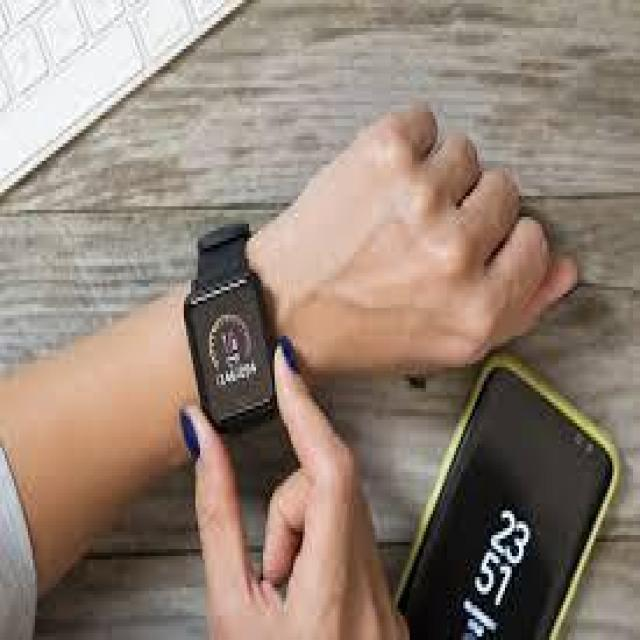watch: (121, 146, 313, 515)
